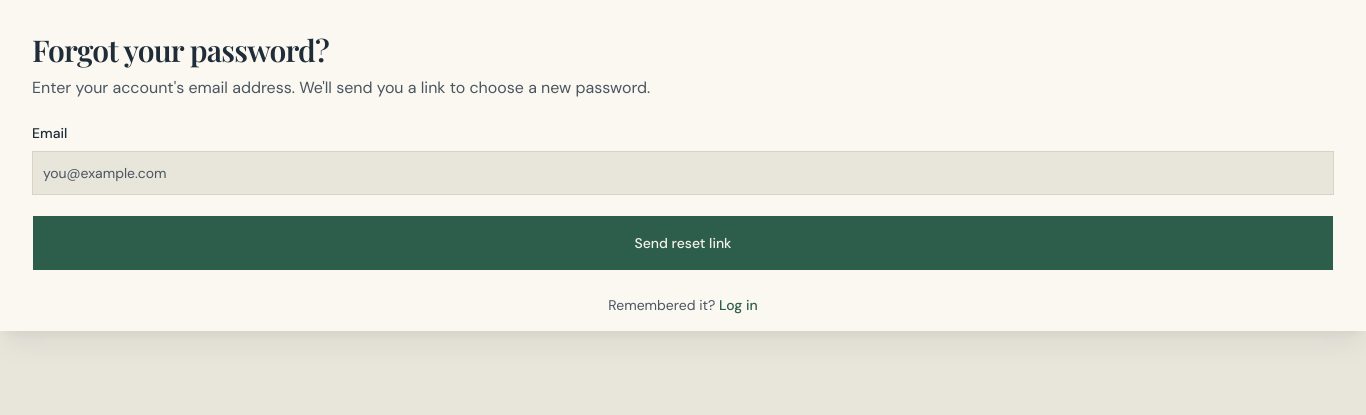
ForgotPasswordFlow › explains rate limiting
Type "mara@example.com" into the field labelled "Email". click: (683, 173)
box: 32,151 -> 1334,195
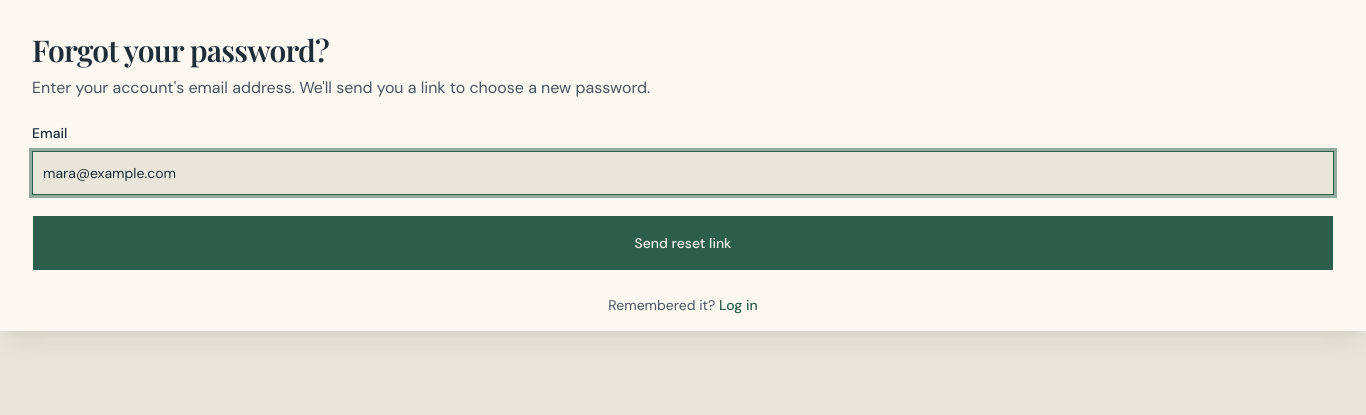
Click the button "Send reset link". click: (683, 243)
box: 32,215 -> 1334,271
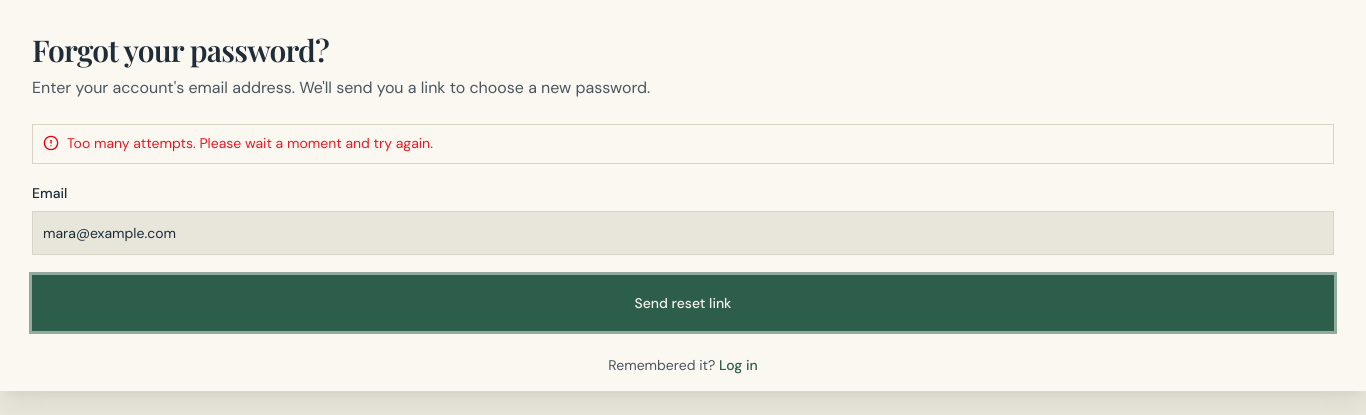
Expected: the message shows "Too many attempts.", 67,134 -> 433,152
